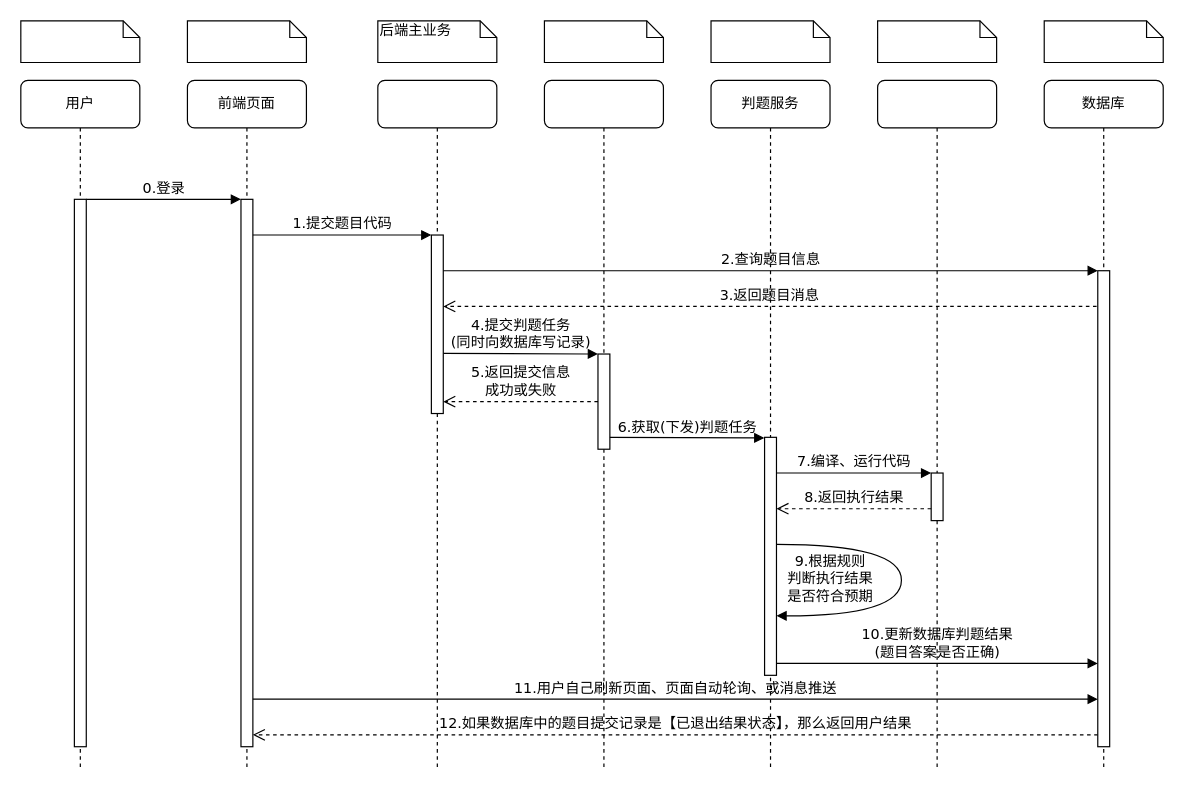
Image size: 1184x791. Some labels were removed from this diagram. The shapes that lost their labels are listed below. From the top down, each one's box as (x1, y1, x2, y2) in pixels, then its label:
(377, 79, 497, 771): 题目服务
(543, 79, 663, 771): 消息队列
(876, 79, 997, 771): 代码沙箱
